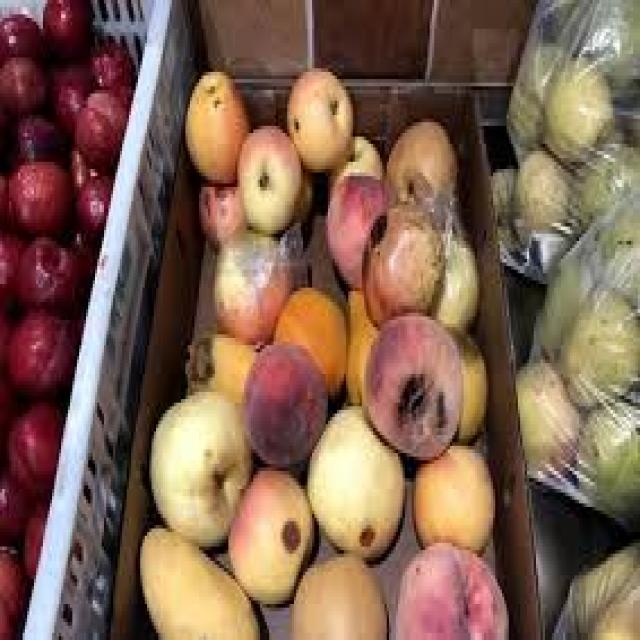organic waste: (142, 388, 251, 550), (303, 399, 403, 557), (360, 309, 459, 464), (136, 522, 262, 636), (224, 460, 314, 600), (240, 338, 328, 467), (394, 543, 502, 636), (409, 439, 493, 557), (360, 202, 441, 310), (210, 230, 288, 342), (269, 284, 344, 399), (290, 550, 384, 637), (382, 115, 457, 219), (328, 172, 391, 288), (561, 288, 631, 392), (181, 65, 246, 176), (542, 57, 610, 162), (235, 122, 301, 230), (507, 147, 568, 255), (518, 367, 577, 478), (283, 65, 348, 165), (563, 550, 638, 633), (579, 406, 638, 504), (178, 330, 256, 402), (5, 313, 72, 395), (509, 47, 563, 147), (581, 148, 633, 245), (7, 165, 77, 234), (581, 0, 638, 83), (18, 234, 84, 302), (540, 270, 588, 360), (285, 219, 341, 295), (344, 288, 380, 406), (445, 323, 484, 428), (437, 219, 477, 320), (70, 83, 122, 158), (590, 209, 638, 284), (332, 133, 380, 205), (9, 402, 57, 474), (0, 112, 66, 158), (46, 54, 90, 122), (74, 158, 108, 238), (197, 180, 240, 241), (38, 0, 90, 50), (0, 57, 45, 111), (533, 0, 581, 50), (16, 492, 45, 572), (0, 532, 20, 636), (0, 474, 29, 543), (0, 237, 25, 313), (91, 47, 131, 93), (0, 15, 41, 58), (491, 176, 511, 230), (0, 165, 7, 238)
